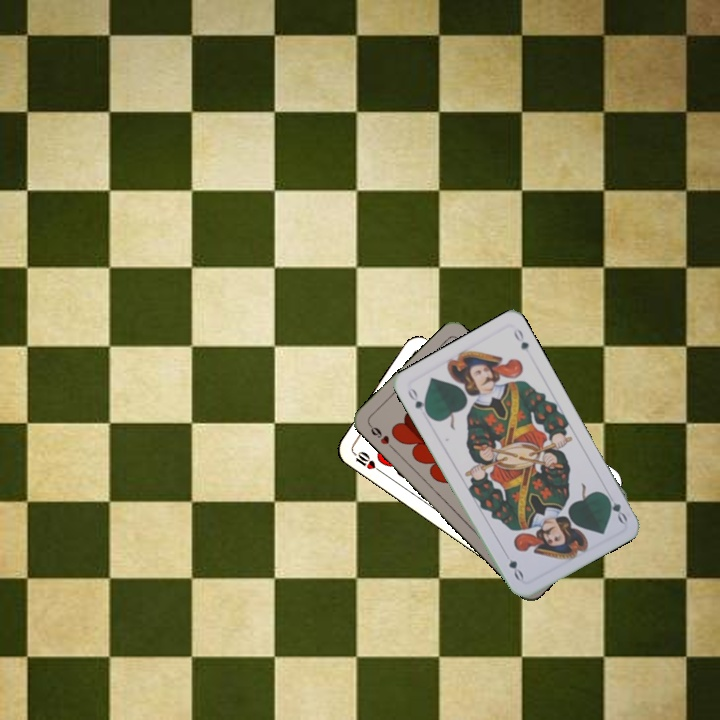GO: (600, 488, 630, 526), (404, 384, 432, 419)
H10: (348, 447, 384, 475)
H9: (365, 420, 397, 453)
